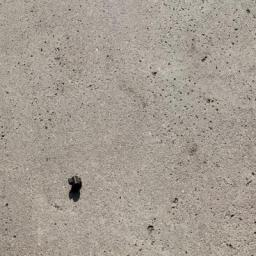FOD: (62, 172, 89, 205)
